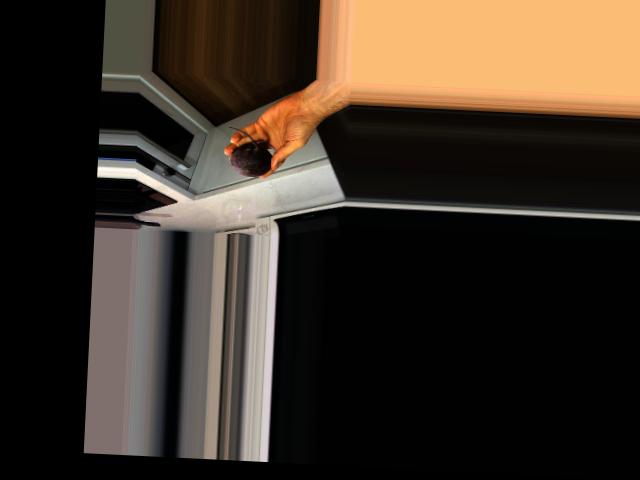beet: (225, 126, 273, 177)
